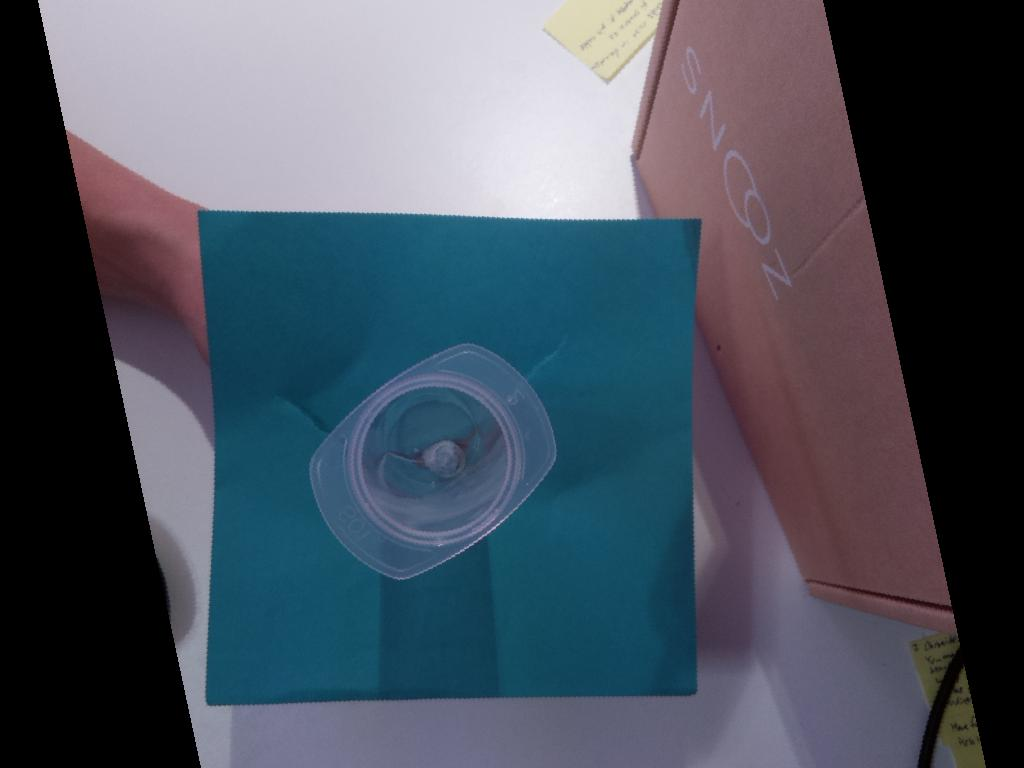clean: (301, 339, 567, 595)
